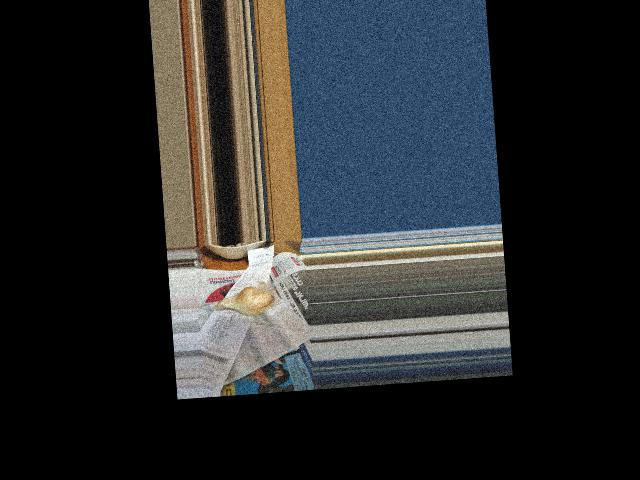onion: (219, 284, 276, 318)
